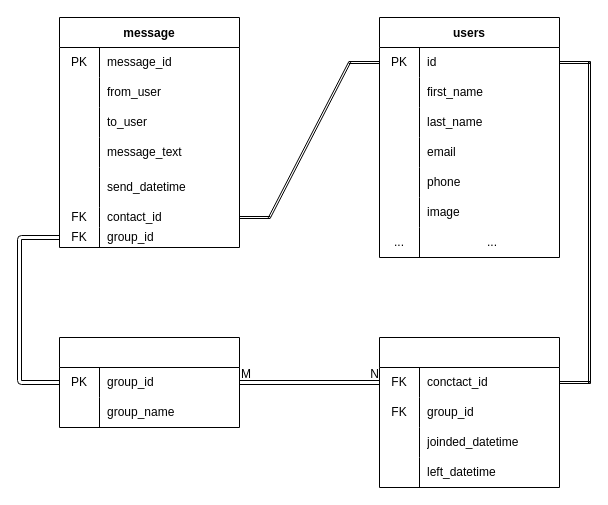
Some shapes in this 608 by 505 pixel diagram are drawn without their labels. Each missing label, with the box of its shape:
group_member: (378, 336, 560, 488)
message_group: (58, 336, 240, 428)
